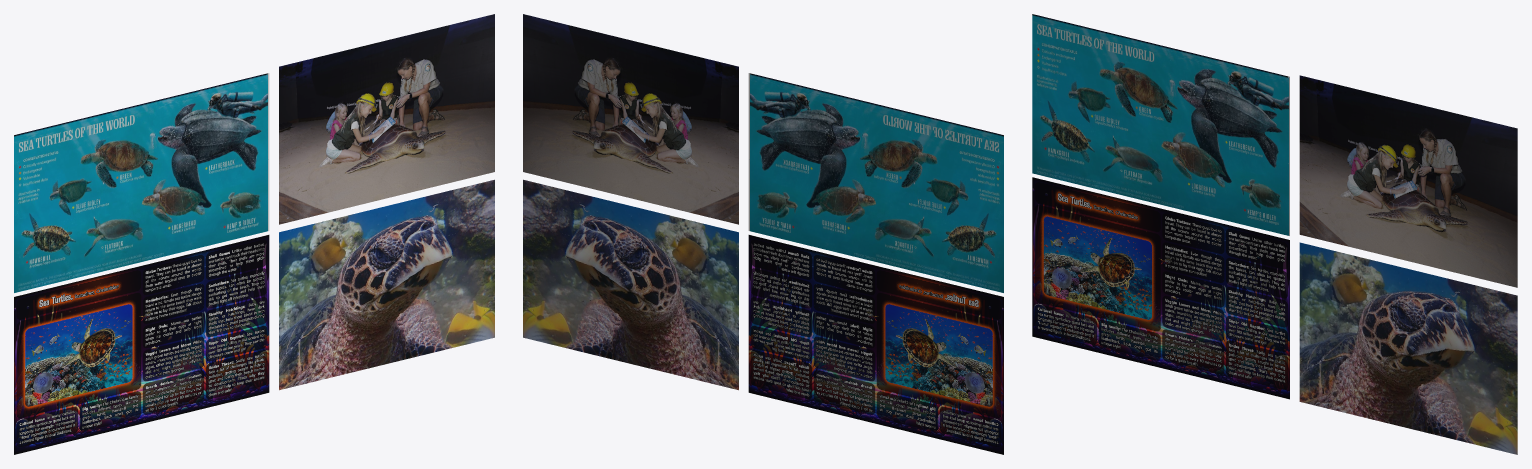
File: Main gallery photos.fbx
3 views of the same model, side by side, from view 1: azimuth 30°, elevation 25°; view 2: azimuth 150°, elevation 25°; view 3: azimuth 330°, elevation 25° (orthographic).
Parts seen in each view (by area): view 1: Plane.013, Plane.014, Plane.009, Plane.015; view 2: Plane.013, Plane.014, Plane.009, Plane.015; view 3: Plane.013, Plane.014, Plane.009, Plane.015.
Part boxes in pixels (box(x1,y1,x2,y2)): Plane.013: box(14, 235, 269, 454); Plane.014: box(14, 73, 269, 292); Plane.009: box(279, 179, 494, 390); Plane.015: box(279, 14, 494, 224); Plane.013: box(748, 235, 1003, 454); Plane.014: box(748, 73, 1003, 292); Plane.009: box(523, 179, 738, 390); Plane.015: box(523, 14, 738, 224); Plane.013: box(1032, 177, 1289, 399); Plane.014: box(1032, 14, 1289, 235); Plane.009: box(1299, 242, 1517, 454); Plane.015: box(1299, 75, 1517, 287).
Size of the model in its own units: 311 by 200 by 1.59e-05.
